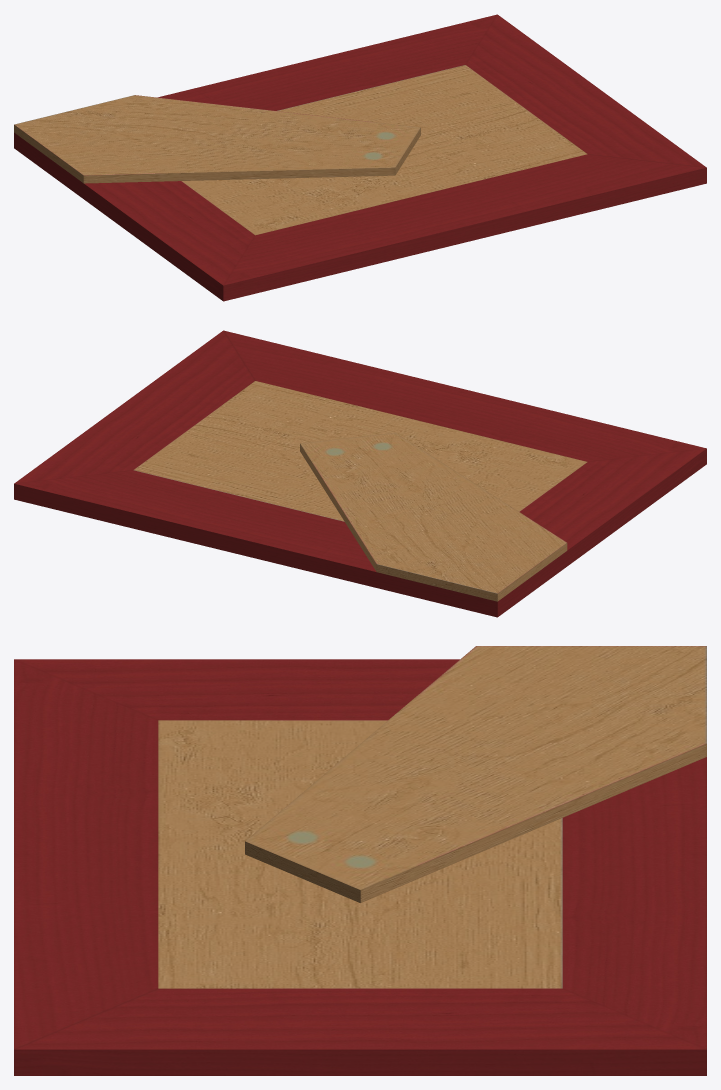
Rendered from Photoframe.obj.
The picture shows the model from 3 angles, top to bottom: view 1: azimuth 30°, elevation 25°; view 2: azimuth 150°, elevation 25°; view 3: azimuth 270°, elevation 25°; orthographic projection. The views are drawn at different scales.
Visible parts, largest first — view 1: Photoframe; view 2: Photoframe; view 3: Photoframe.
Boxes of the visible parts, x1,y1,x2,y2 form: Photoframe: [14, 14, 706, 301]; Photoframe: [14, 330, 706, 617]; Photoframe: [14, 646, 706, 1075].
Size of the model in its own units: 8 by 0.45 by 6.
1 material, 1 textured.
